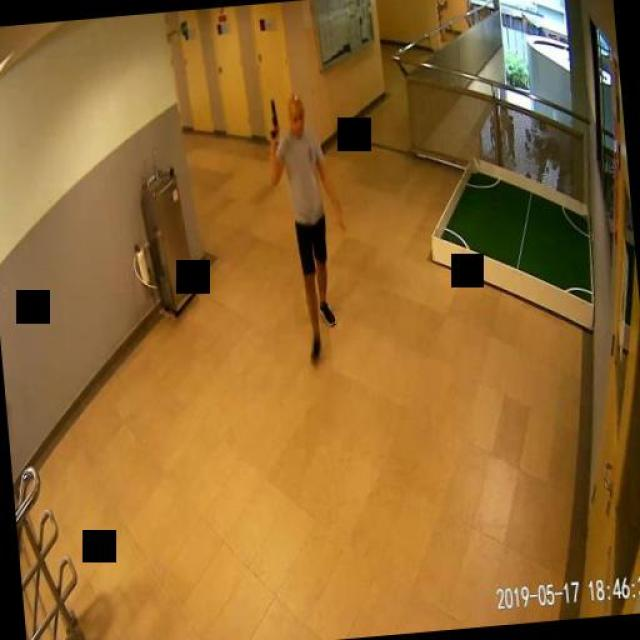gun: (266, 95, 280, 141)
